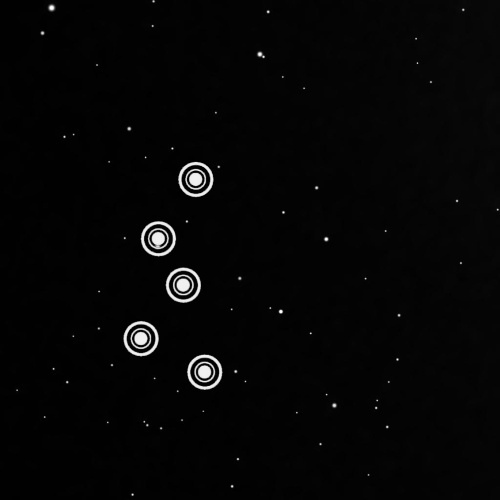cassiopeia: (118, 152, 231, 396)
